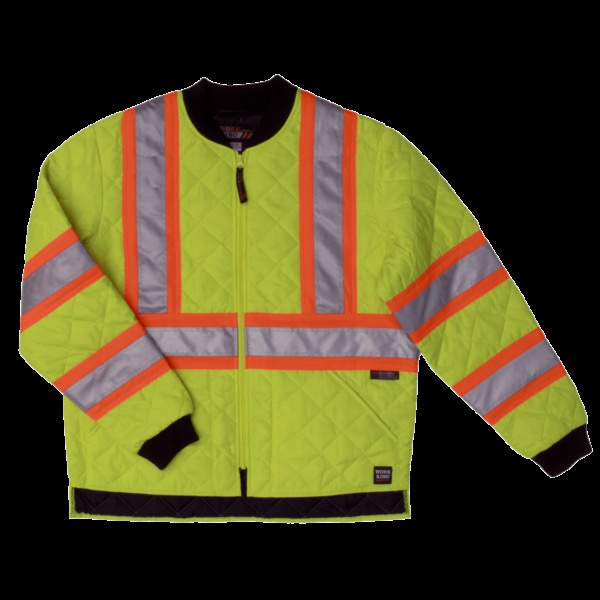safety vest: (51, 98, 431, 521)
